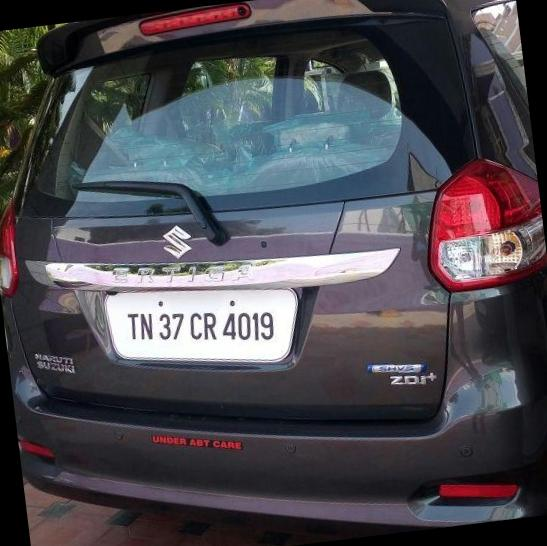plate: (91, 250, 312, 388)
